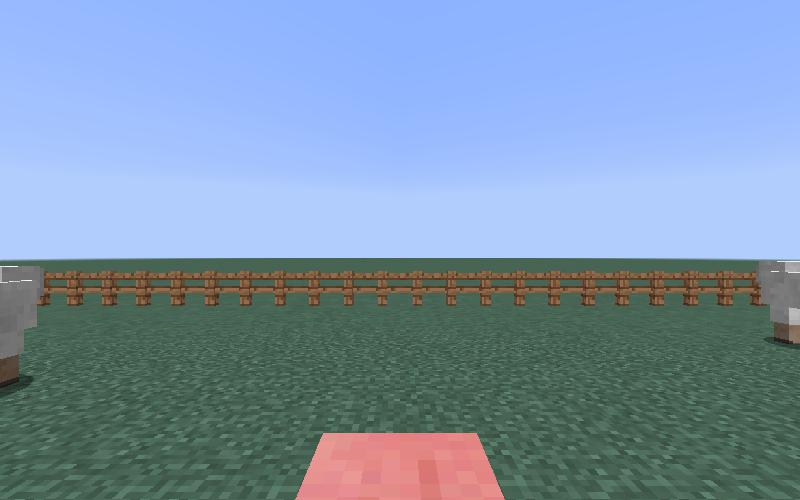pig: (286, 430, 510, 500)
sheep: (2, 255, 47, 394), (756, 255, 800, 364)
